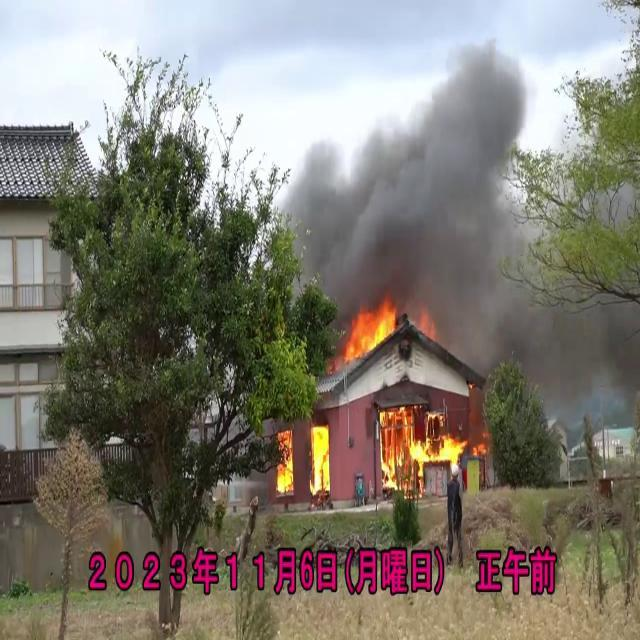Fire: (342, 298, 402, 364)
Smoke: (282, 31, 640, 363), (280, 37, 556, 336)
